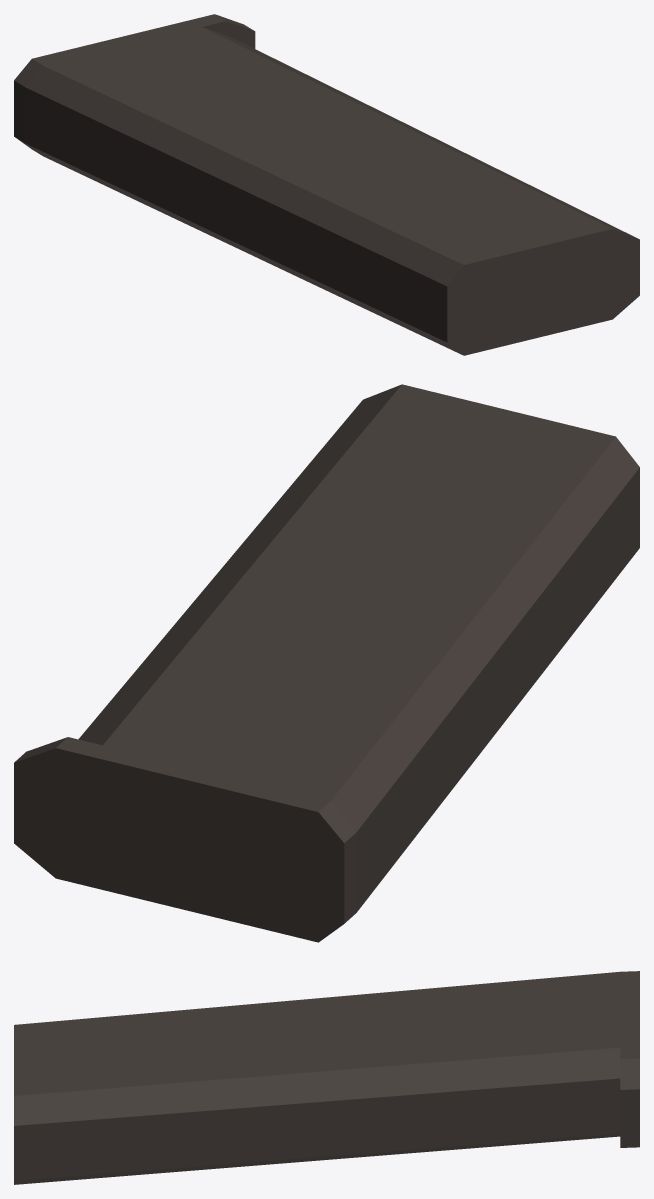
Rendered from DeLisleMag.glb.
The picture shows the model from 3 angles, top to bottom: view 1: azimuth 30°, elevation 25°; view 2: azimuth 150°, elevation 25°; view 3: azimuth 270°, elevation 25°; orthographic projection. The views are drawn at different scales.
Visible parts, largest first — view 1: DeLisleMag; view 2: DeLisleMag; view 3: DeLisleMag.
Boxes of the visible parts, x1,y1,x2,y2 form: DeLisleMag: (14, 14, 639, 355); DeLisleMag: (14, 384, 639, 942); DeLisleMag: (14, 971, 639, 1184).
Size of the model in its own units: 0.3031 by 0.0858 by 0.5472.
Materials: 1 (1 with a texture image).
